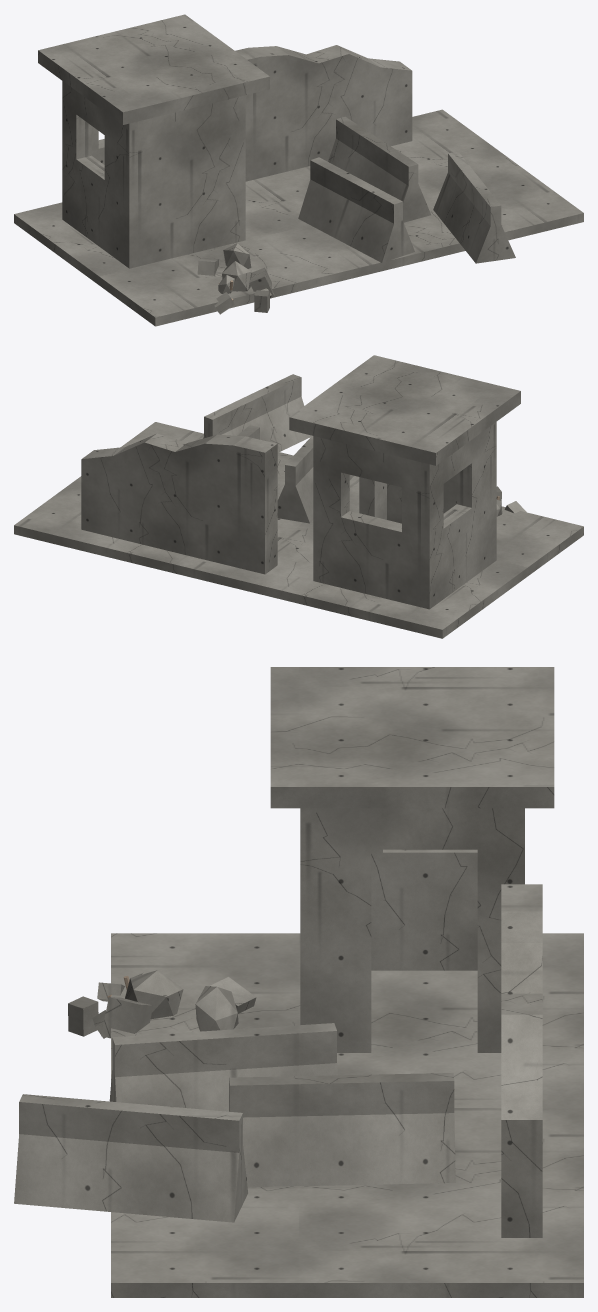
The model's file is Guard_Post.fbx.
3 views of the same model, one above another, from view 1: azimuth 30°, elevation 25°; view 2: azimuth 150°, elevation 25°; view 3: azimuth 270°, elevation 25° (orthographic). The views are drawn at different scales.
Parts seen in each view (by area): view 1: Guard_Post; view 2: Guard_Post; view 3: Guard_Post.
Boxes of the visible parts, x1,y1,x2,y2 form: Guard_Post: (14,14,583,326); Guard_Post: (14,355,583,638); Guard_Post: (14,667,583,1297).
Size of the model in its own units: 7 by 2.78 by 4.82.
2 materials, 1 textured.
